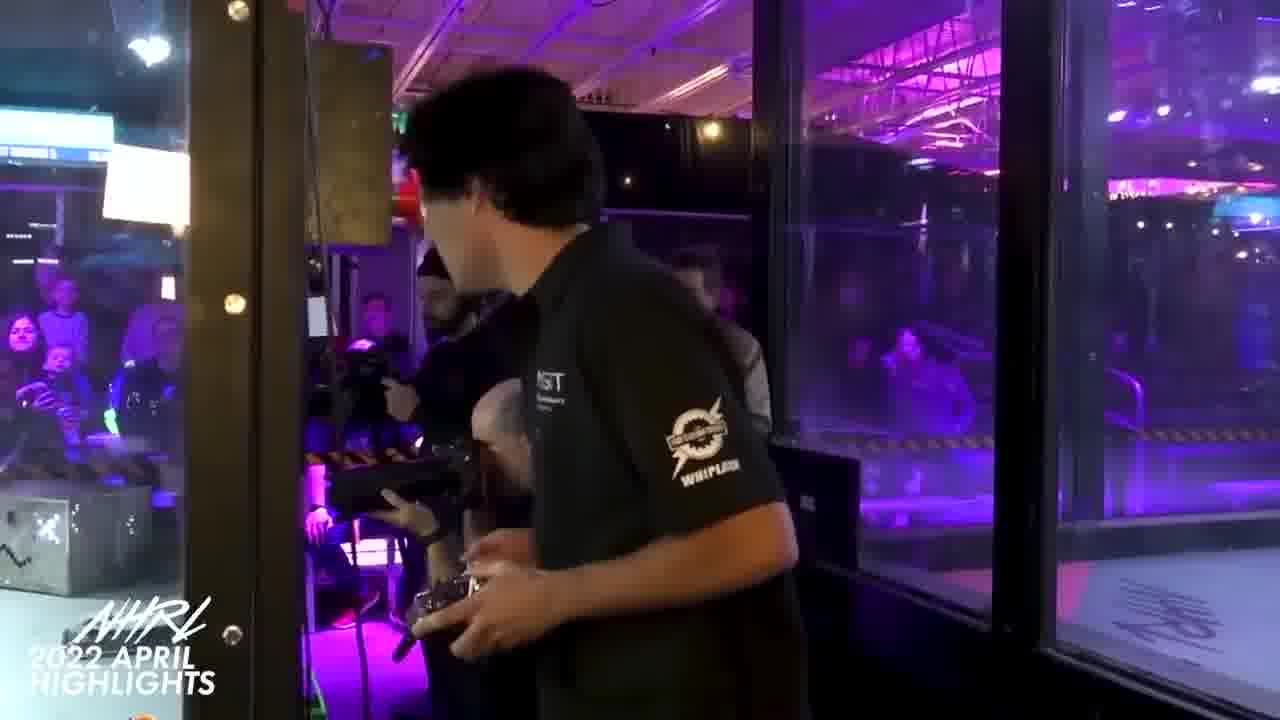combatbot: (64, 599, 184, 649)
housebot: (0, 488, 149, 595)
